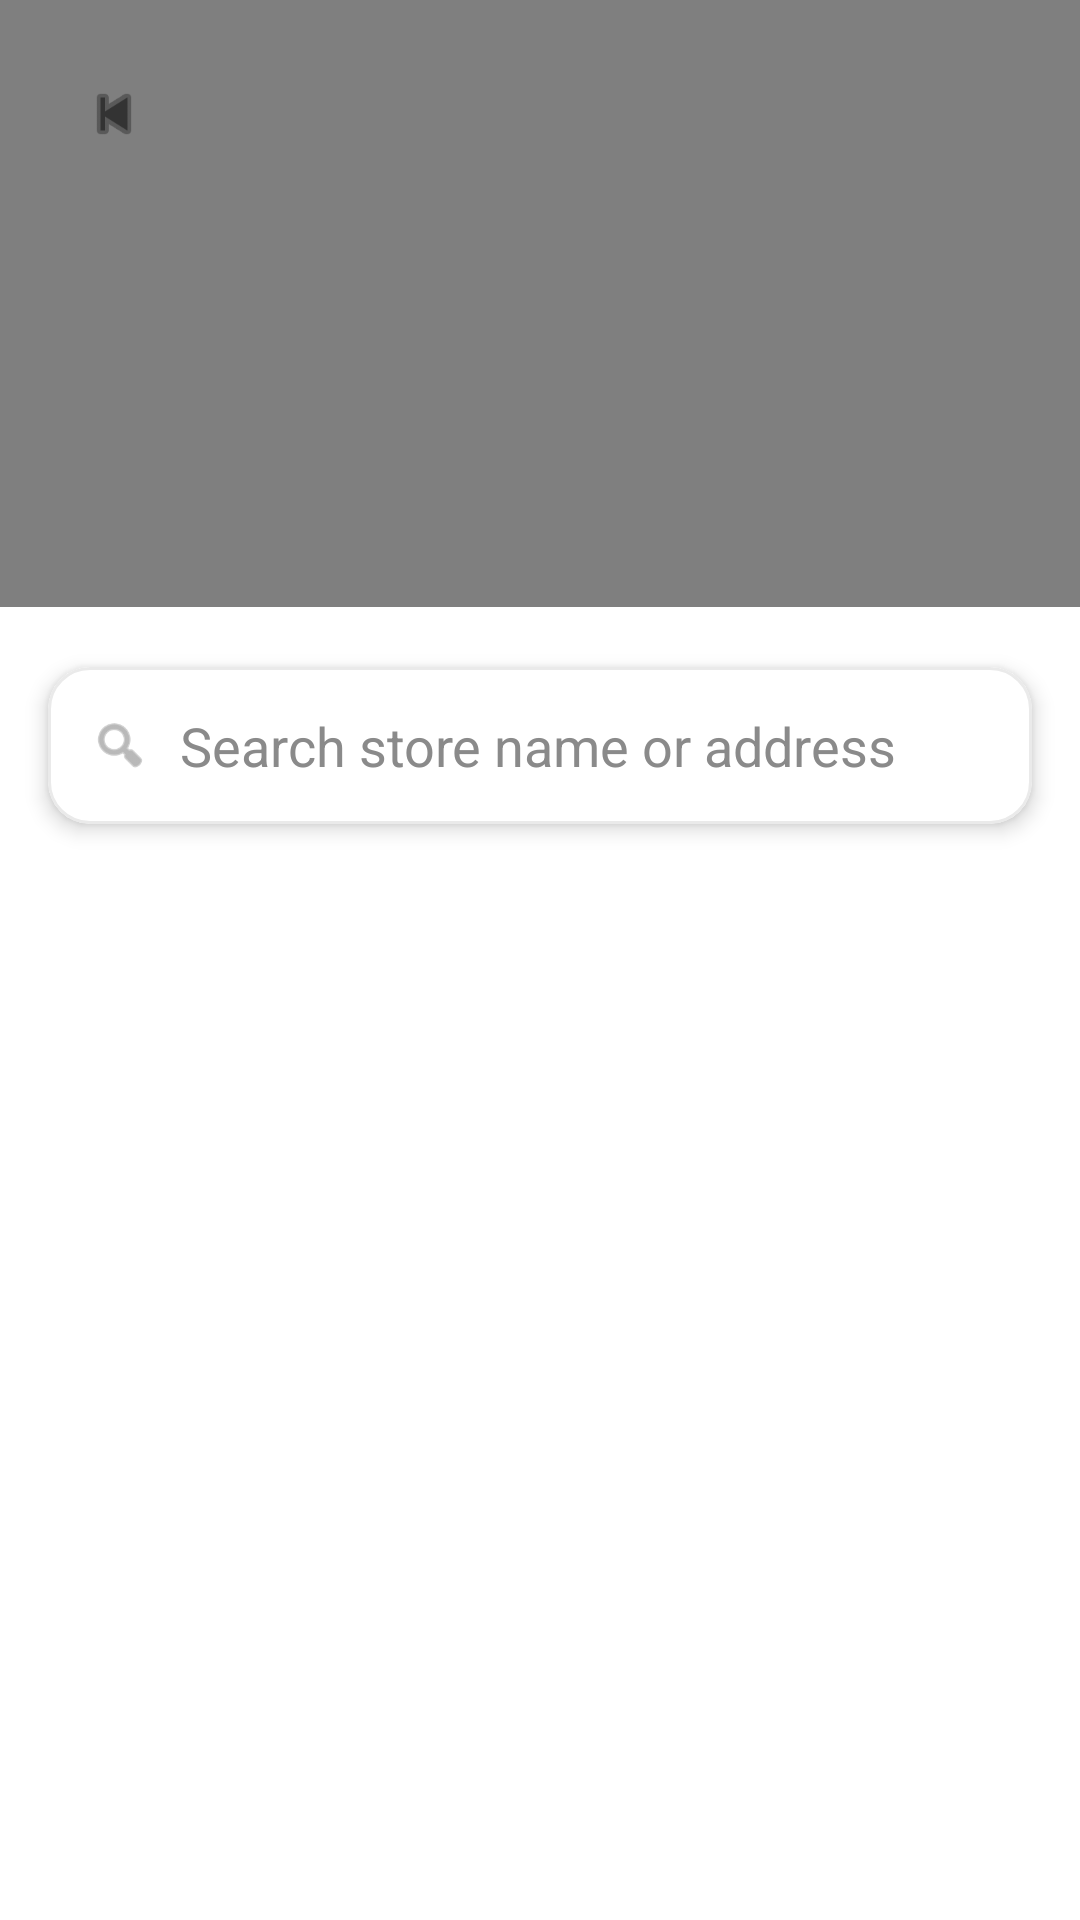

Where to tap for icons on this 1080x1920 app screen, as [x,y]:
Back: [114,114]
